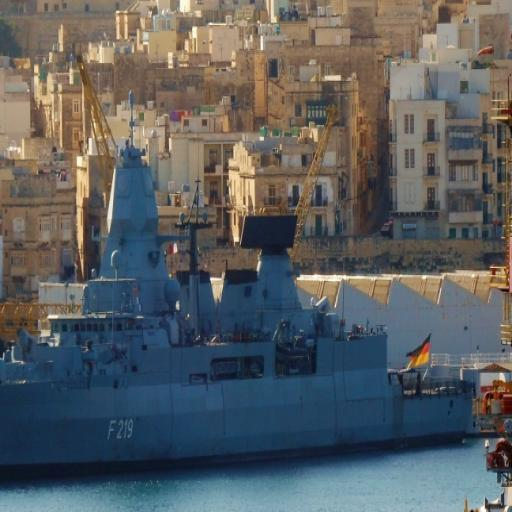Fragata: (1, 120, 481, 492)
